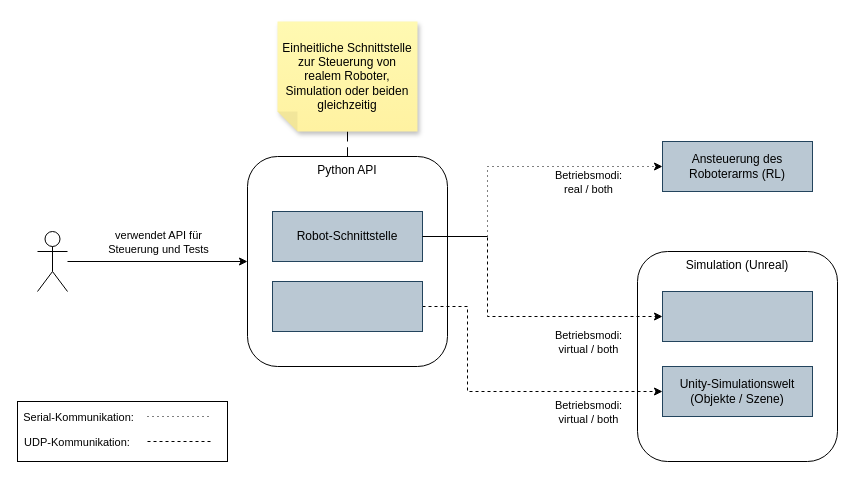
Some shapes in this 855 by 479 pixel diagram are drawn without their labels. The shapes that lost their labels are listed below. From the top down, each one's centre as x and y in pixels, then its label:
At (52,261): "Benutzer / Entwickler".
At (347,306): "World-Schnittstelle".
At (737,316): "Ansteuerung des Roboterarms (Simulation)".
